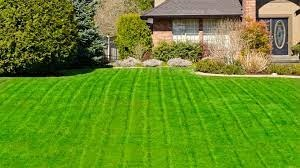grass: (2, 69, 296, 164)
